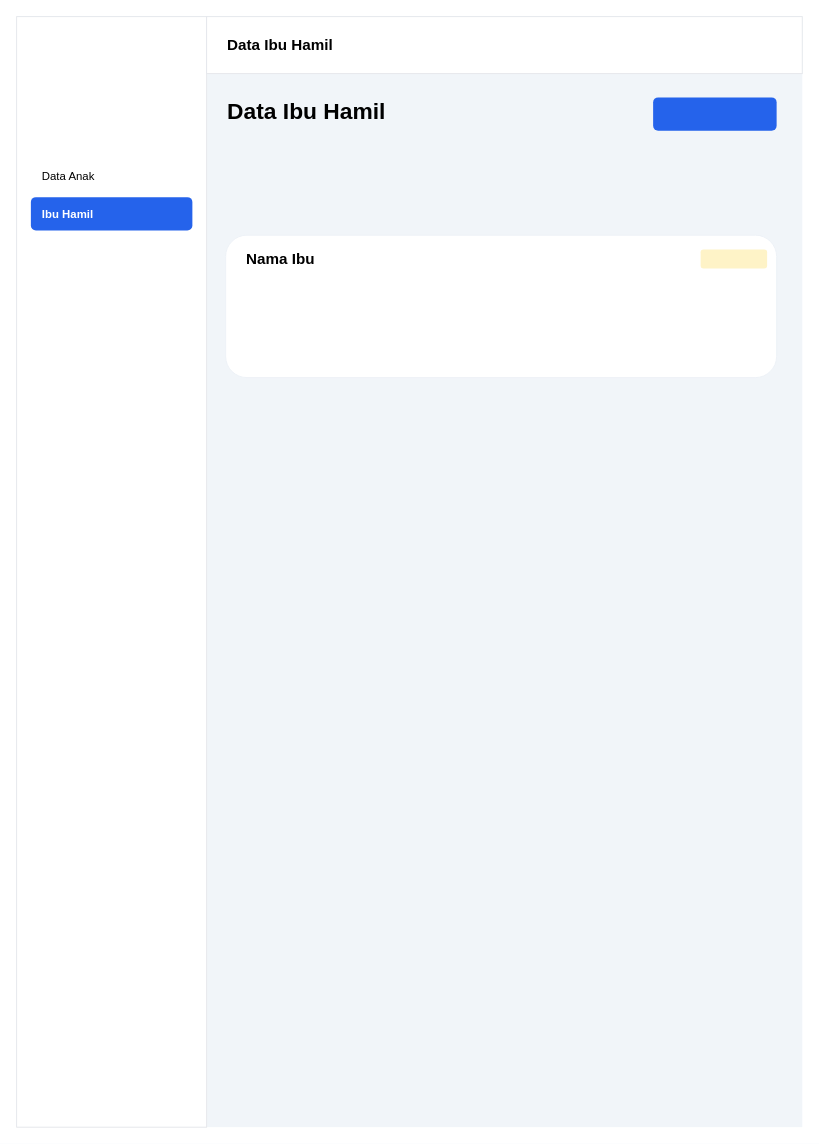
This 819x1144 diagram has some shape labels left out. Here are the shapes that lost their labels. From the top down, the centre of each, then its label:
At point (714, 113): "+ Tambah Data".
At point (733, 258): "24 Minggu".
